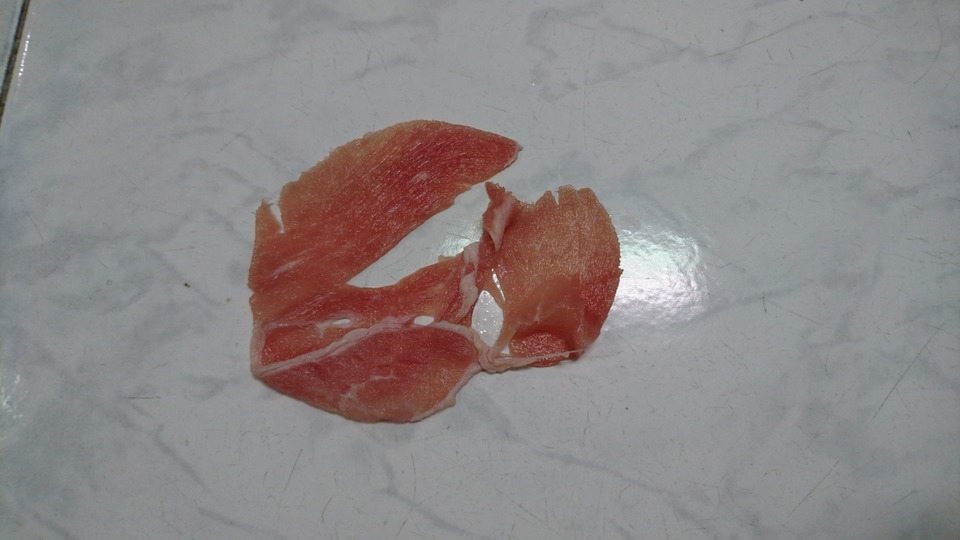restructured meat: (240, 115, 622, 420)
